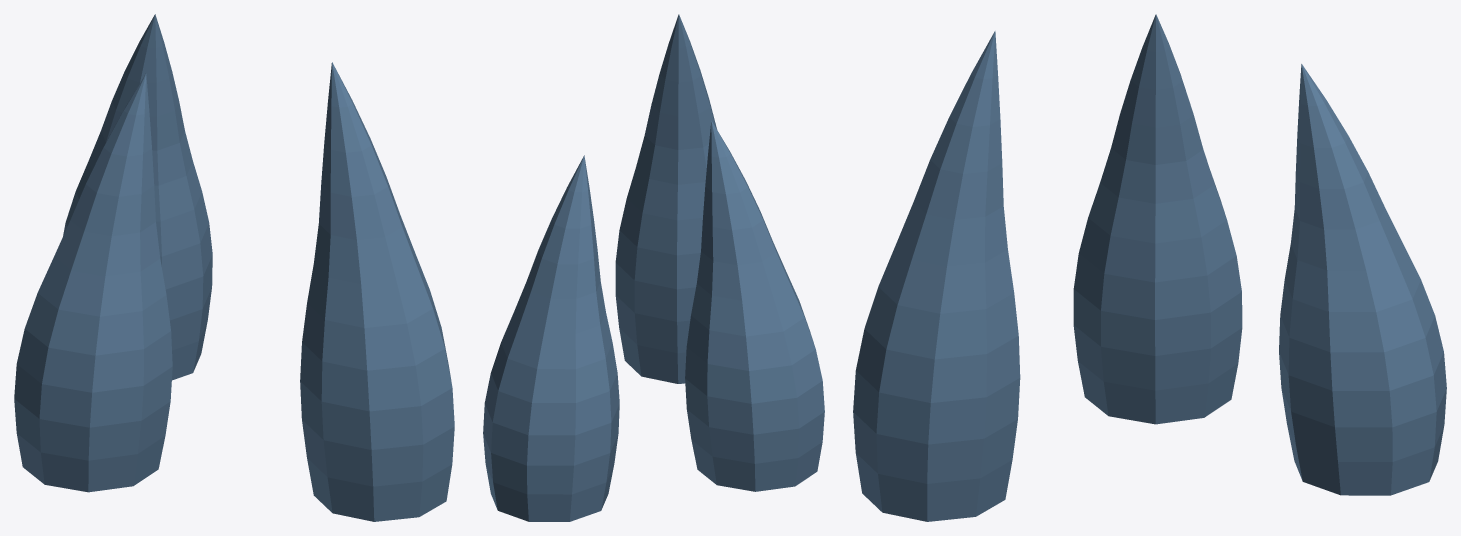
The model's file is flame_towers.glb.
The picture shows the model from 3 angles, left to right: view 1: azimuth 30°, elevation 25°; view 2: azimuth 150°, elevation 25°; view 3: azimuth 270°, elevation 25°; orthographic projection. The views are drawn at different scales.
Visible parts, largest first — view 1: chunk_0_0; view 2: chunk_0_0; view 3: chunk_0_0.
Boxes of the visible parts, x1,y1,x2,y2 form: chunk_0_0: (14, 14, 454, 521); chunk_0_0: (483, 14, 824, 521); chunk_0_0: (853, 14, 1446, 521).
Size of the model in its own units: 146 by 184 by 220.
